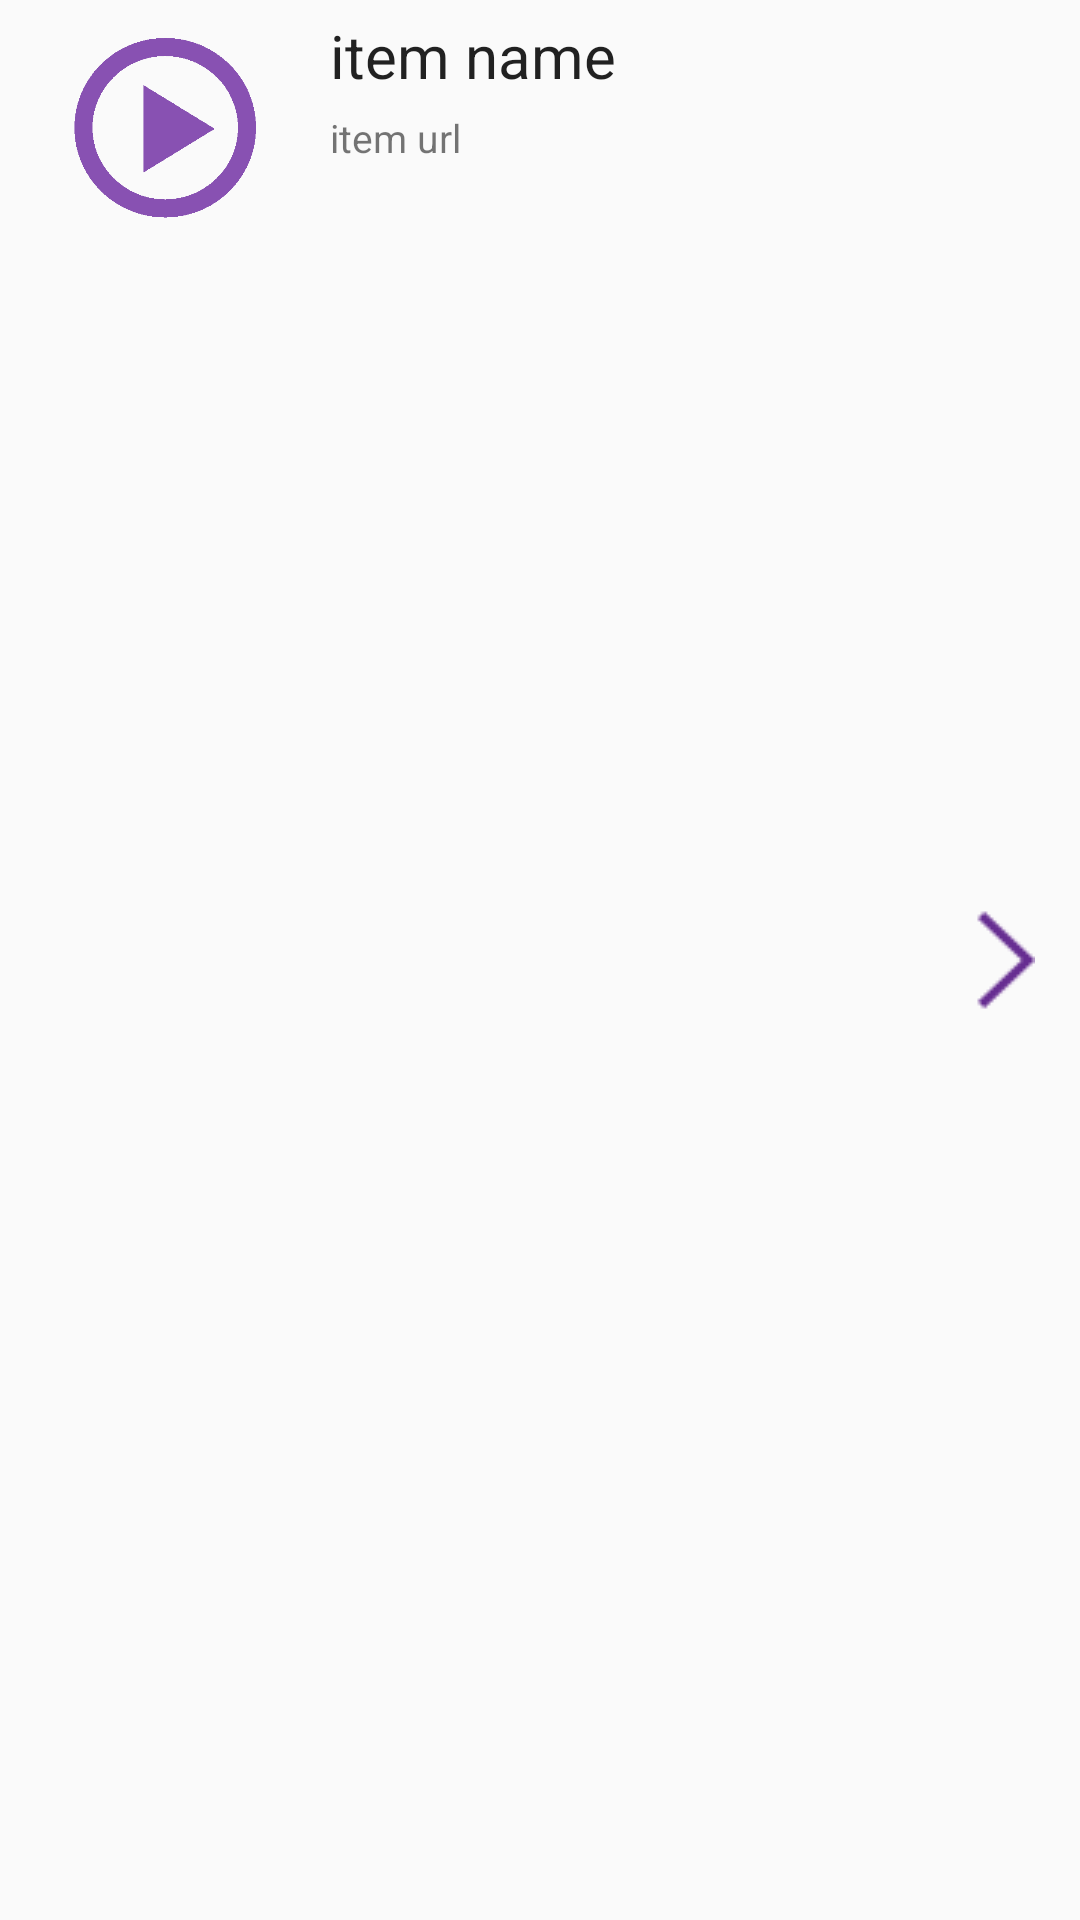

Locate icon controls on the screen. Image size 1080 x 1920, boxes as (x1, y1, x2, y2).
arrow right: (977, 911, 1035, 1009)
play ed: (74, 38, 256, 218)
